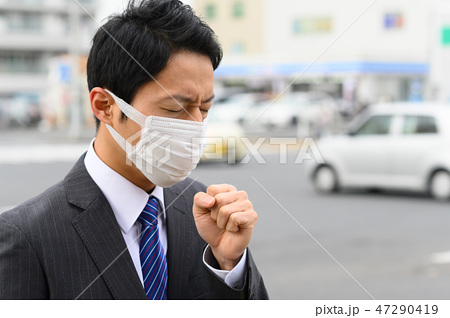mask: (131, 115, 210, 190)
